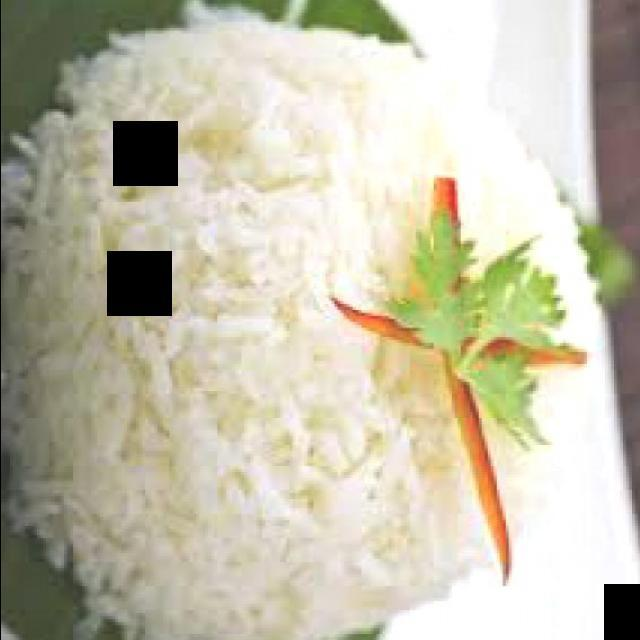Chicken -Chicken Inasal-: (0, 6, 603, 639), (0, 113, 175, 434)
